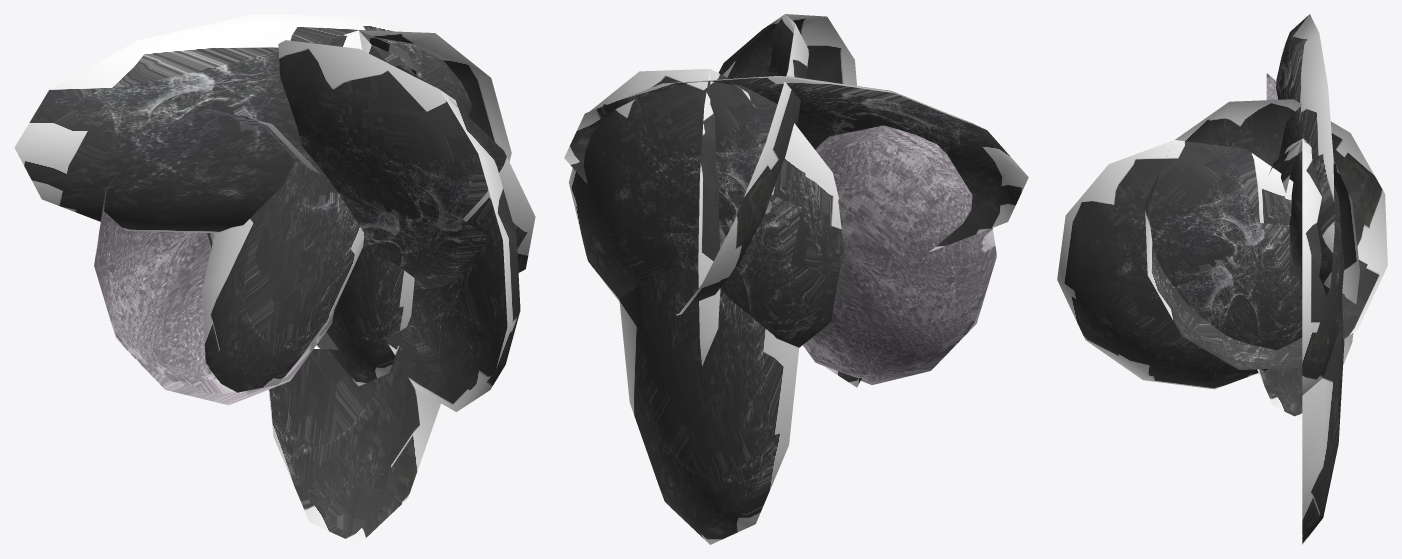
The model's file is cobweb8.FBX.
The picture shows the model from 3 angles, left to right: view 1: azimuth 30°, elevation 25°; view 2: azimuth 150°, elevation 25°; view 3: azimuth 270°, elevation 25°; orthographic projection. The views are drawn at different scales.
Visible parts, largest first — view 1: cobweb008; view 2: cobweb008; view 3: cobweb008.
Boxes of the visible parts, x1,y1,x2,y2 form: cobweb008: [14, 14, 535, 544]; cobweb008: [564, 14, 1028, 544]; cobweb008: [1057, 14, 1387, 544].
Size of the model in its own units: 149 by 157 by 109.
